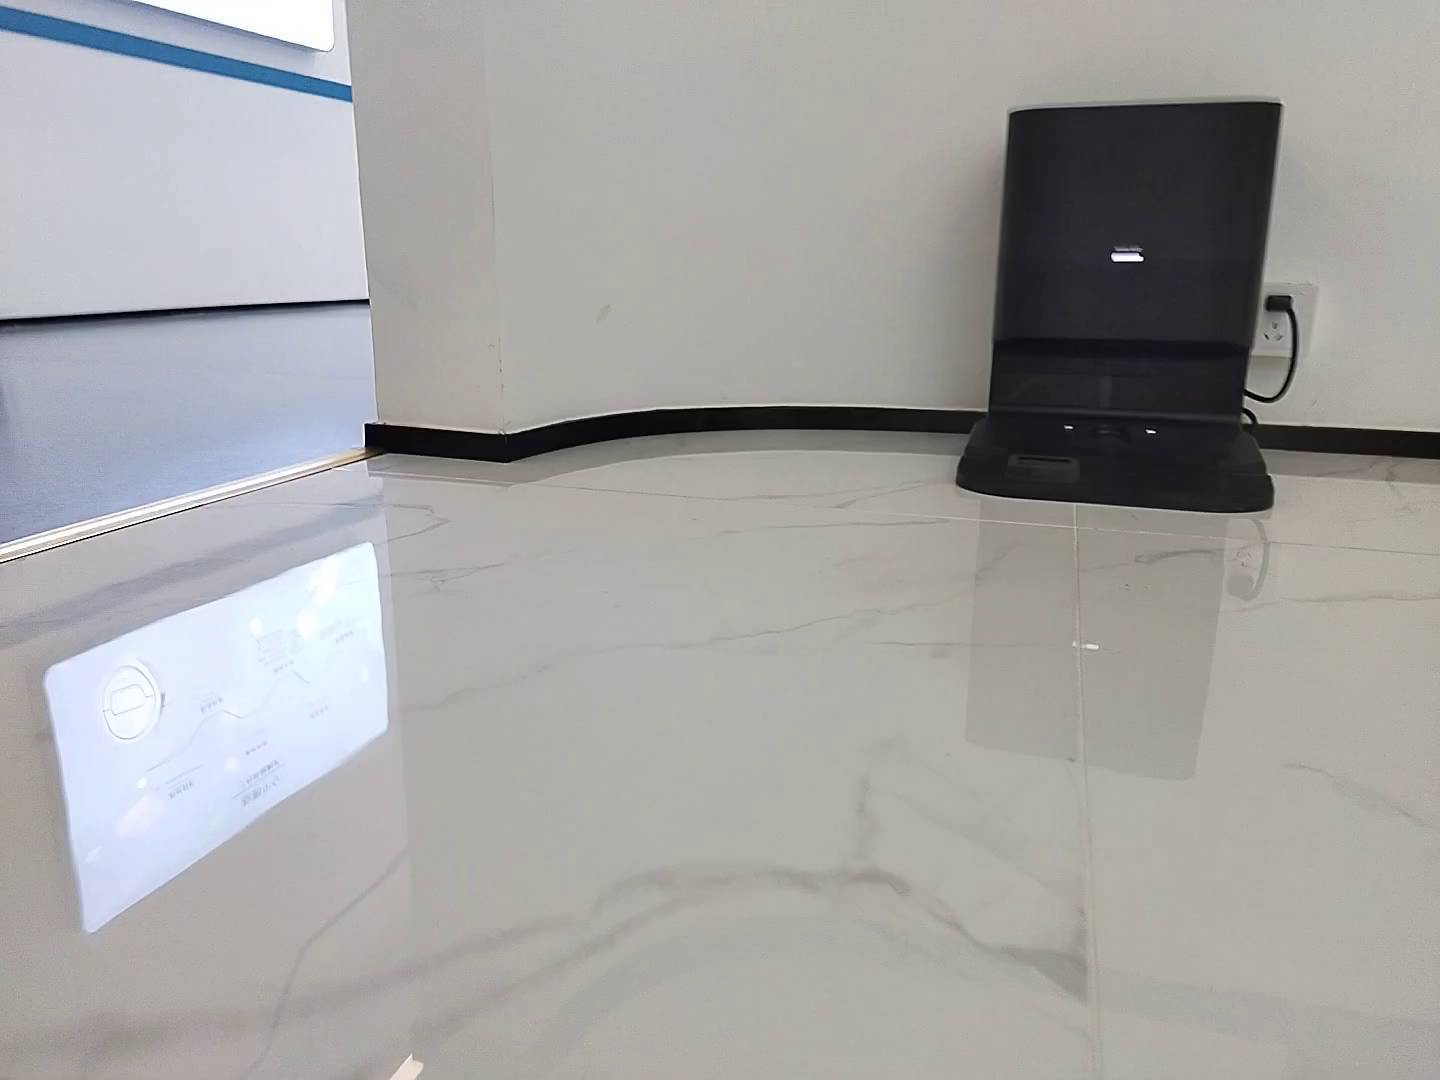dust collecting barrel: (952, 98, 1287, 515)
